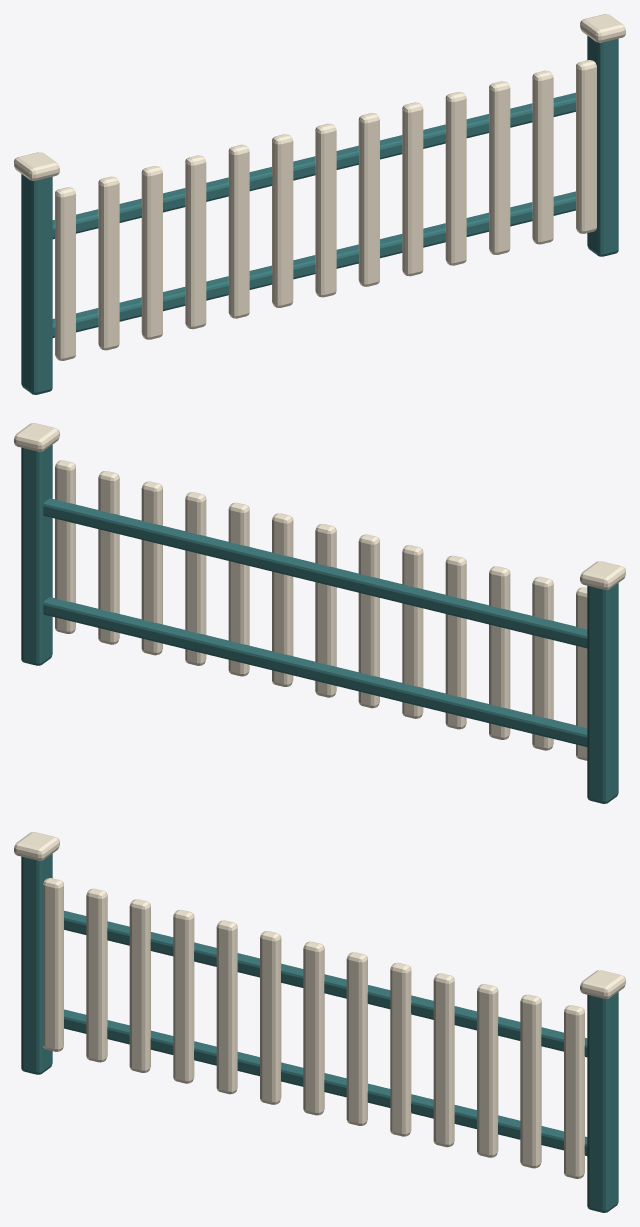
Rendered from park_fence_panel.glb.
The picture shows the model from 3 angles, top to bottom: view 1: azimuth 30°, elevation 25°; view 2: azimuth 150°, elevation 25°; view 3: azimuth 330°, elevation 25°; orthographic projection.
Parts seen in each view (by area): view 1: park_fence_panel_Mesh; view 2: park_fence_panel_Mesh; view 3: park_fence_panel_Mesh.
Boxes of the visible parts, x1=… form: park_fence_panel_Mesh: x1=14, y1=14, x2=625, y2=394; park_fence_panel_Mesh: x1=14, y1=423, x2=625, y2=803; park_fence_panel_Mesh: x1=14, y1=832, x2=625, y2=1212.
Size of the model in its own units: 3.16 by 1.16 by 0.18.
